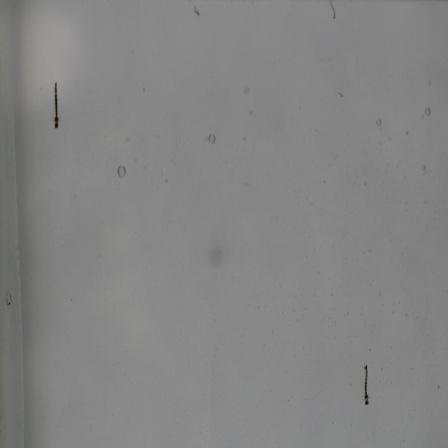Jentik-Nyamuk: (359, 358, 374, 410), (49, 79, 63, 133)
